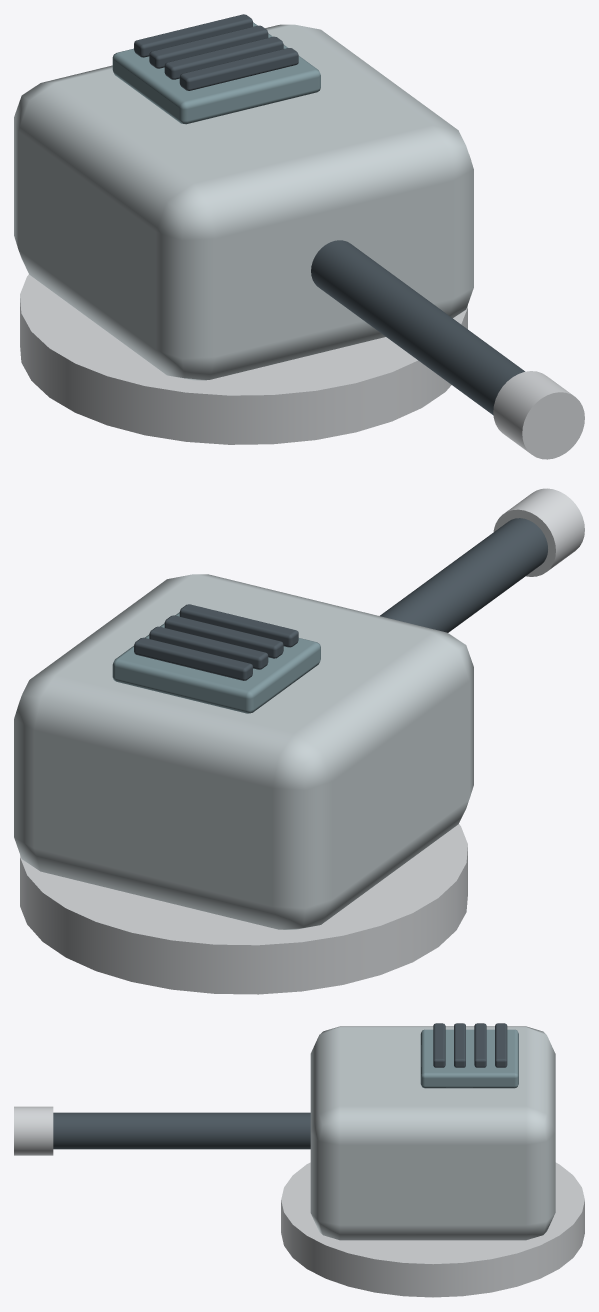
Rendered from turret-single.glb.
3 views of the same model, one above another, from view 1: azimuth 30°, elevation 25°; view 2: azimuth 150°, elevation 25°; view 3: azimuth 270°, elevation 25° (orthographic). The views are drawn at different scales.
Parts seen in each view (by area): view 1: single-turret; view 2: single-turret; view 3: single-turret.
Boxes of the visible parts, x1,y1,x2,y2 form: single-turret: (14,14,584,459); single-turret: (14,488,584,994); single-turret: (14,1023,584,1297).
Bounding box in the file's own units: 1.24 × 0.865 × 2.33.
